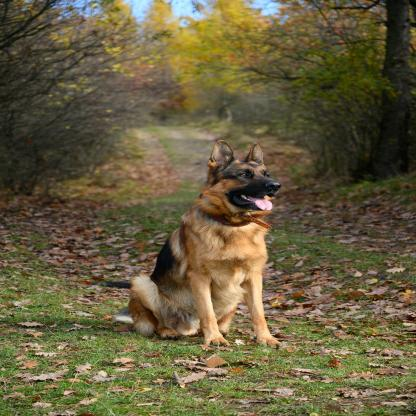german shepherd: (128, 144, 282, 349)
